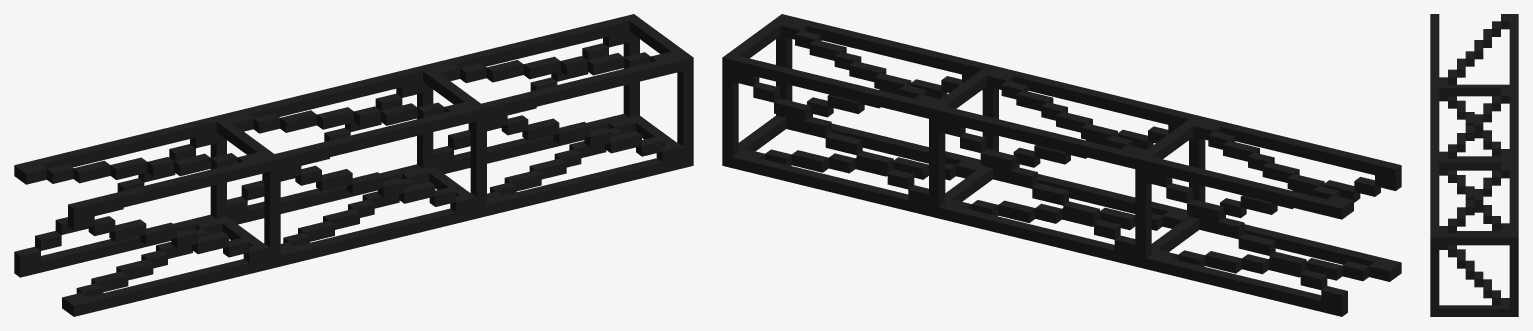
Rendered from MetalScaffold0.obj.
The picture shows the model from 3 angles, left to right: view 1: azimuth 30°, elevation 25°; view 2: azimuth 150°, elevation 25°; view 3: azimuth 270°, elevation 25°; orthographic projection. The views are drawn at different scales.
Bounding box in the file's own units: 6 × 1 × 1.
1 material, 1 textured.
